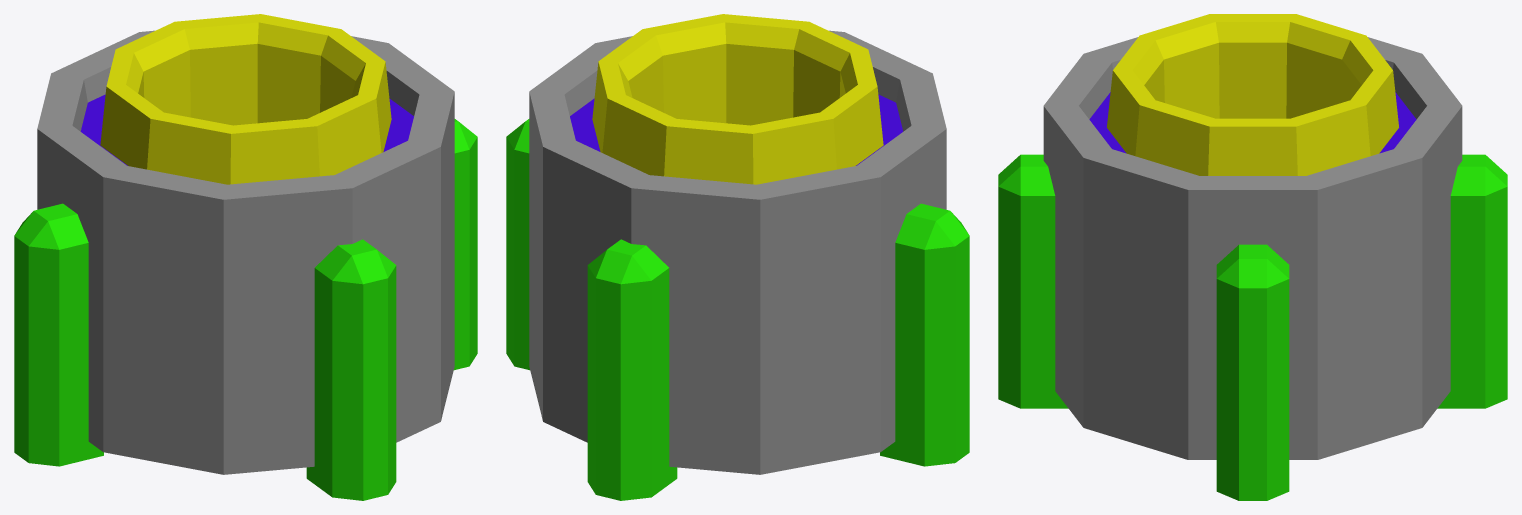
File: AttatchPointModel.fbx
3 views of the same model, side by side, from view 1: azimuth 30°, elevation 25°; view 2: azimuth 150°, elevation 25°; view 3: azimuth 270°, elevation 25° (orthographic).
Visible parts, largest first — view 1: Cylinder; view 2: Cylinder; view 3: Cylinder.
Boxes of the visible parts, x1,y1,x2,y2 form: Cylinder: (14, 14, 477, 500); Cylinder: (506, 14, 969, 500); Cylinder: (998, 14, 1507, 500).
Size of the model in its own units: 243 by 170 by 243.
